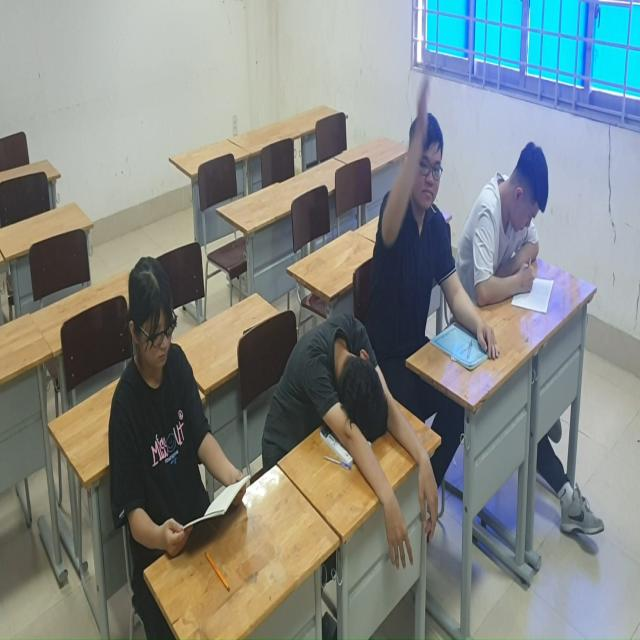raise_hand: (373, 74, 457, 373)
read: (106, 254, 254, 565), (470, 130, 562, 324)
sleep: (267, 313, 442, 574)
